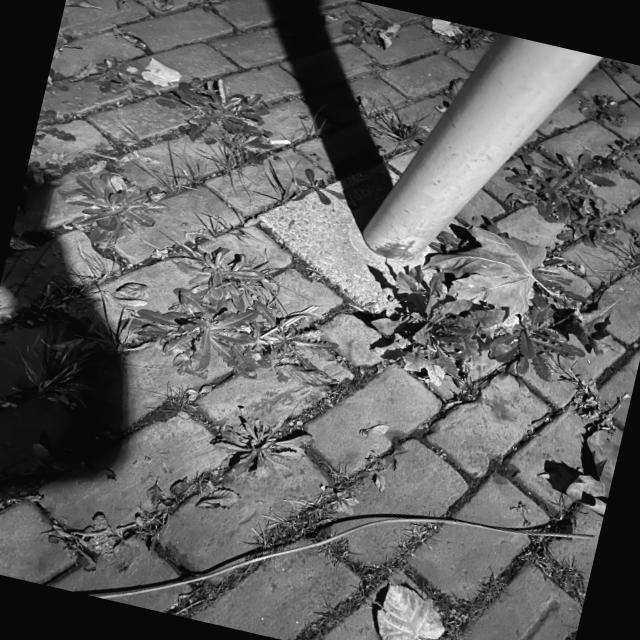leaves: (428, 207, 564, 328), (366, 576, 460, 640)
pavement: (5, 87, 382, 340)
weed: (346, 263, 576, 418), (147, 233, 351, 407), (508, 133, 638, 254), (154, 78, 294, 170), (206, 403, 319, 511), (58, 167, 154, 260), (0, 343, 94, 418), (68, 55, 154, 101), (270, 170, 345, 213), (371, 111, 434, 162), (68, 507, 118, 565), (348, 13, 398, 55), (574, 86, 622, 126), (187, 0, 234, 21), (622, 236, 640, 289)
weedling: (164, 451, 386, 617)
